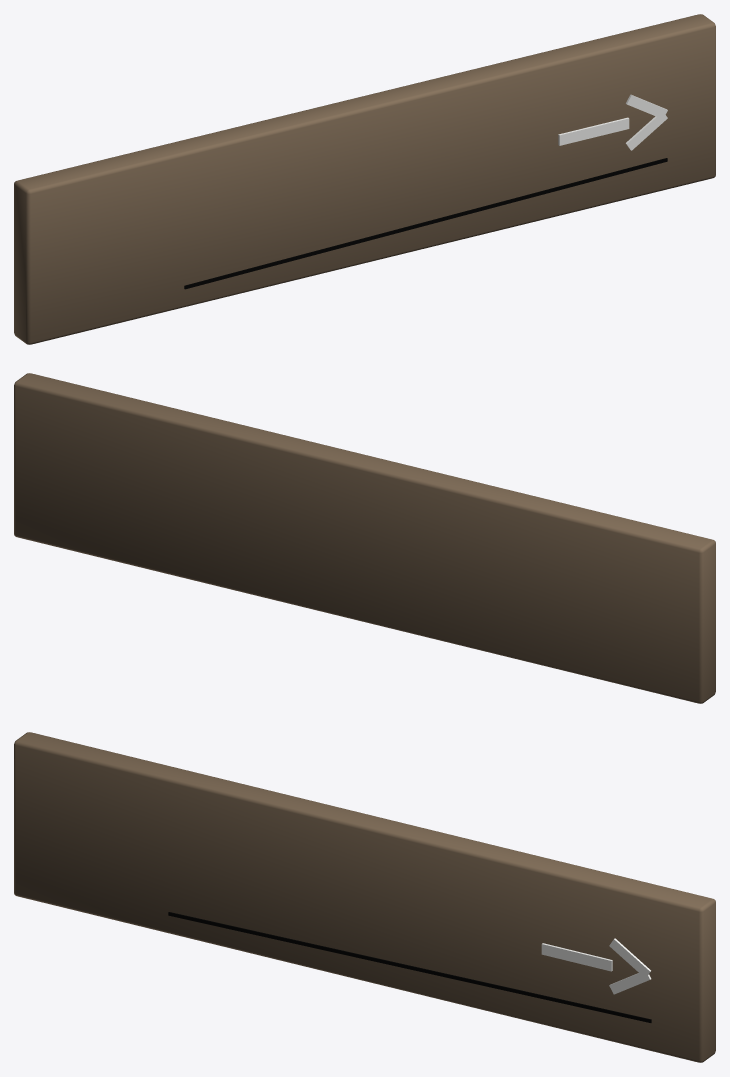
The model's file is low_board_r.glb.
The picture shows the model from 3 angles, top to bottom: view 1: azimuth 30°, elevation 25°; view 2: azimuth 150°, elevation 25°; view 3: azimuth 330°, elevation 25°; orthographic projection.
Visible parts, largest first — view 1: g_signbrown, g_crack, g_whitepaint; view 2: g_signbrown; view 3: g_signbrown, g_crack, g_whitepaint.
Part boxes in pixels (x1,y1,x2,y2): g_signbrown: (14, 14, 715, 344); g_crack: (184, 158, 667, 289); g_whitepaint: (558, 94, 667, 150); g_signbrown: (14, 373, 715, 703); g_signbrown: (14, 732, 715, 1062); g_crack: (168, 912, 651, 1022); g_whitepaint: (541, 938, 651, 994).
Size of the model in its own units: 1.3 by 0.28 by 0.054.
